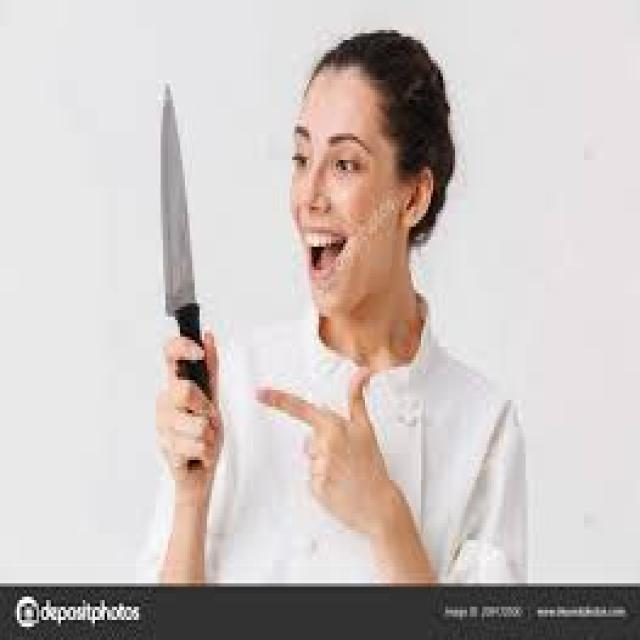Knife: (158, 80, 212, 463)
